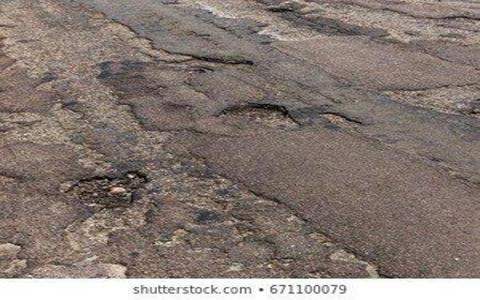patchy roads: (69, 44, 349, 200)
